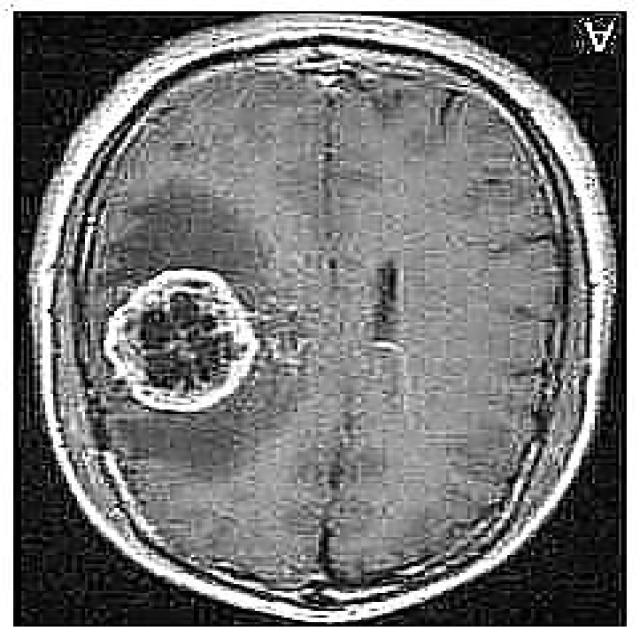Tumor-Cell: (98, 254, 261, 431)
